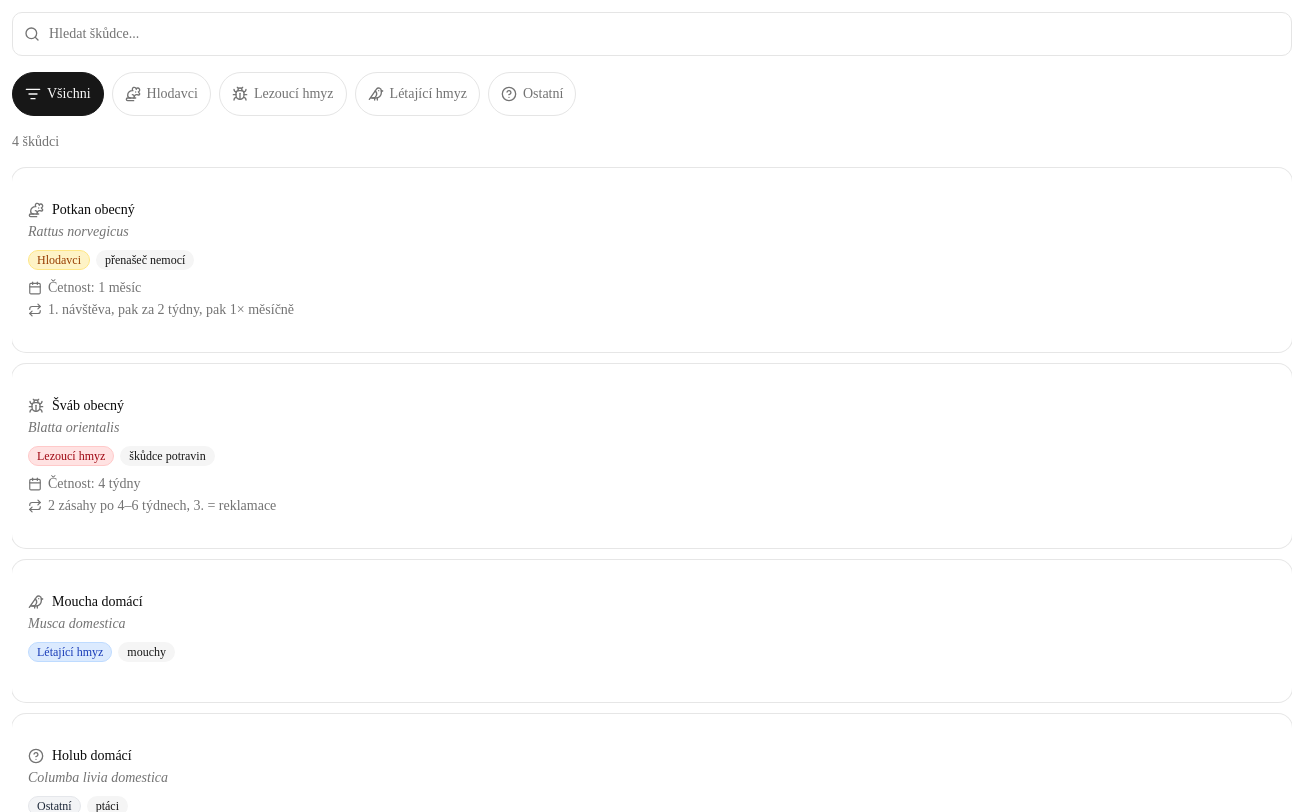
Test: SkudciList › filters by search query
In the field with placeholder "Hledat škůdce...": (652, 34) [12, 12, 1292, 56], type "potkan"
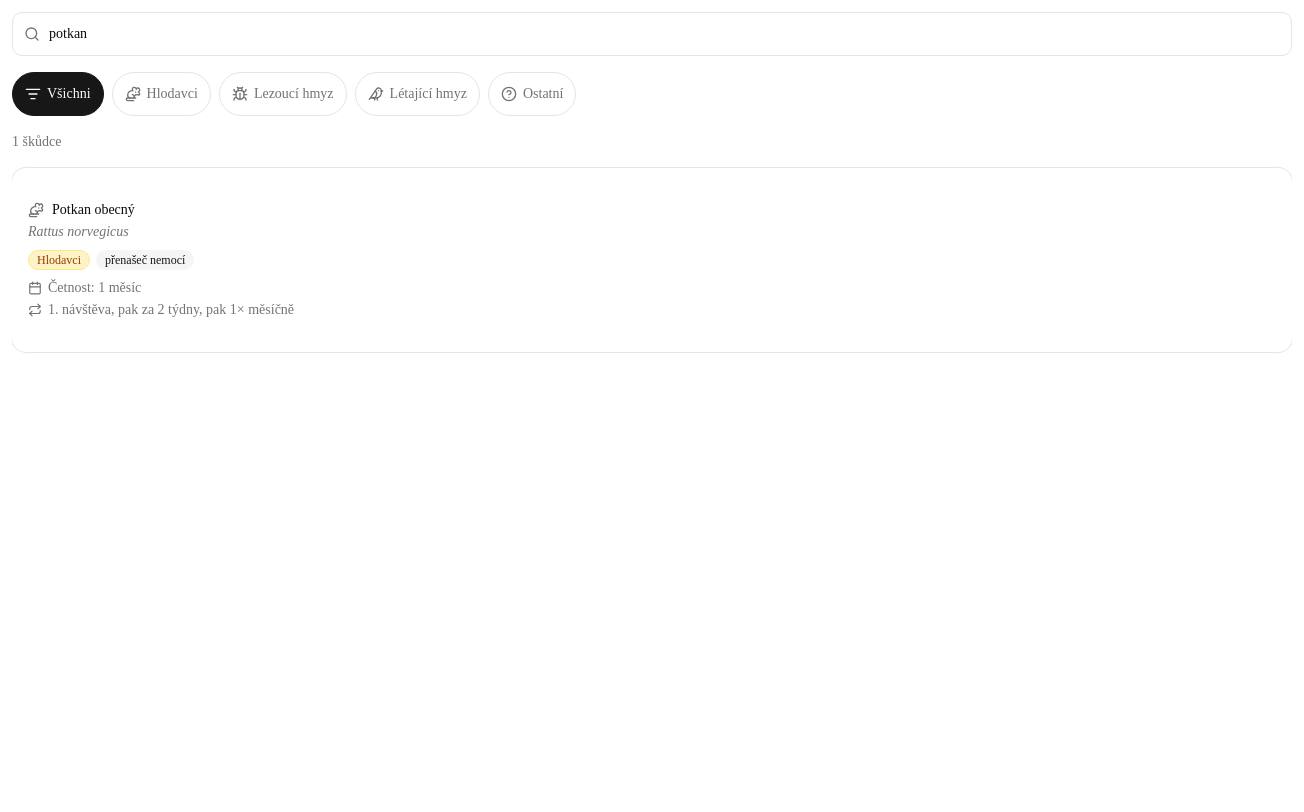
Expected: the text "Potkan obecný" is shown, [52, 200, 135, 220]
Now the text "Šváb obecný" is gone
